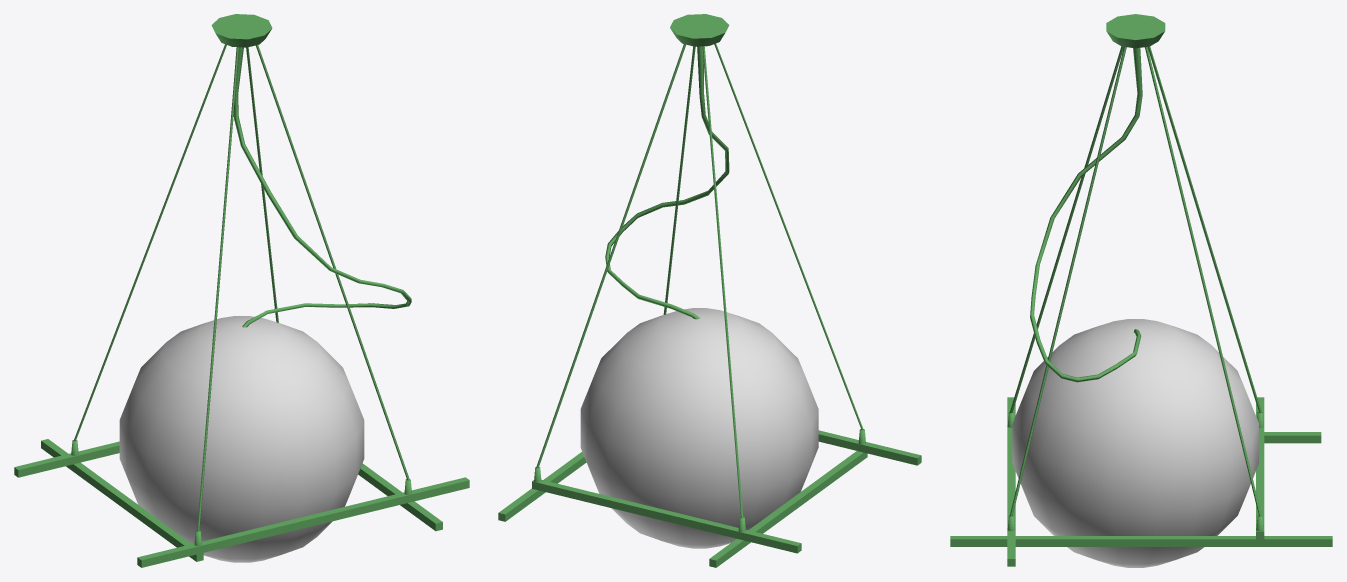
File: LightTopDesign02.FBX
3 views of the same model, side by side, from view 1: azimuth 30°, elevation 25°; view 2: azimuth 150°, elevation 25°; view 3: azimuth 270°, elevation 25° (orthographic). The views are drawn at different scales.
Visible parts, largest first — view 1: LightTopDesign02; view 2: LightTopDesign02; view 3: LightTopDesign02.
Part boxes in pixels (box(x1,y1,x2,y2)): LightTopDesign02: box(14, 14, 469, 567); LightTopDesign02: box(498, 14, 921, 567); LightTopDesign02: box(950, 14, 1332, 567).
Size of the model in its own units: 30 by 30 by 45.87.
